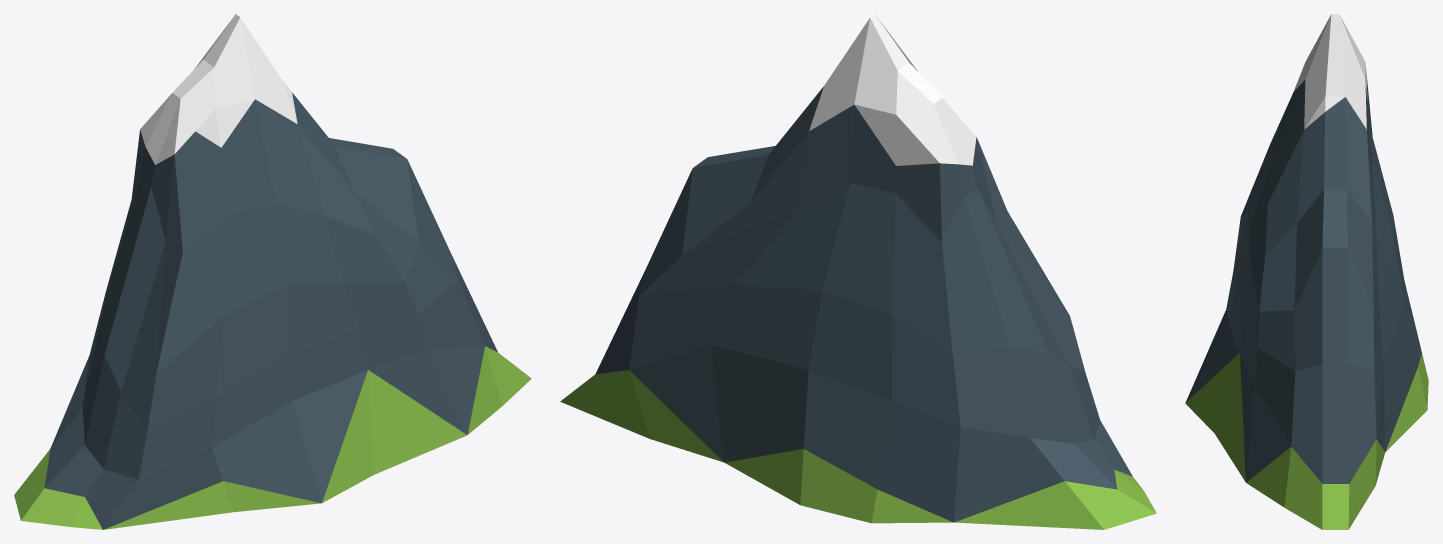
Rendered from Mountain.glb.
3 renders of one model, left to right at view 1: azimuth 30°, elevation 25°; view 2: azimuth 150°, elevation 25°; view 3: azimuth 270°, elevation 25°, orthographic. The views are drawn at different scales.
Parts seen in each view (by area): view 1: Mountain_Cube; view 2: Mountain_Cube; view 3: Mountain_Cube.
Boxes of the visible parts, box(x1,y1,x2,y2) form: Mountain_Cube: box(14, 14, 531, 529); Mountain_Cube: box(560, 14, 1156, 529); Mountain_Cube: box(1185, 14, 1428, 529).
Size of the model in its own units: 10.86 by 8.39 by 4.76.
